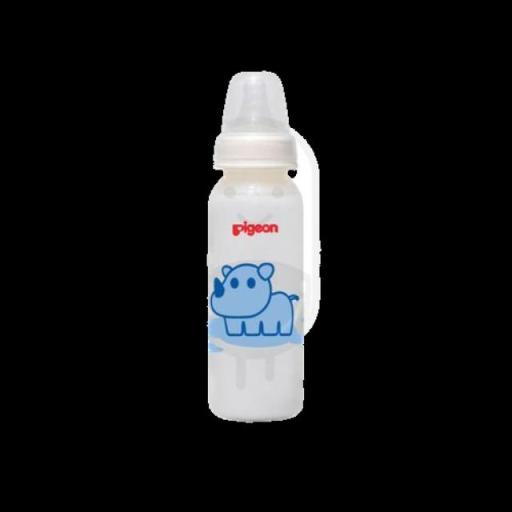plastic: (212, 66, 306, 421)
